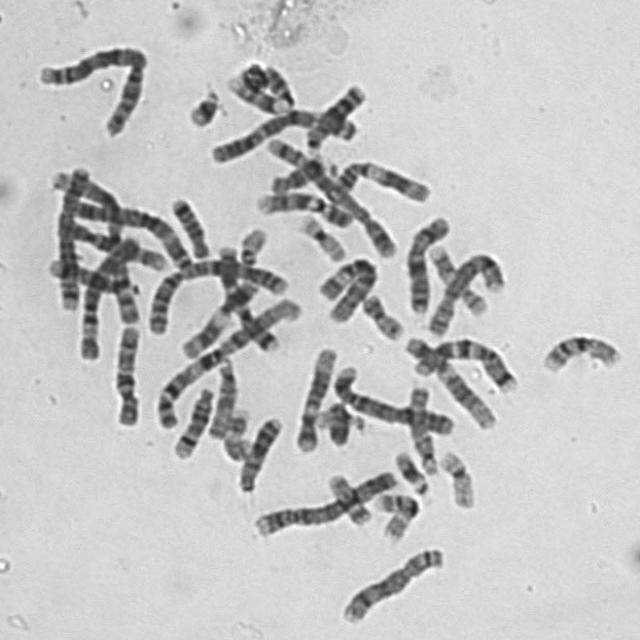A1: (148, 288, 308, 432), (42, 156, 143, 328)
A2: (139, 252, 295, 339), (30, 35, 152, 139)
A3: (49, 186, 198, 273), (202, 102, 362, 166)
B4: (246, 461, 401, 539), (326, 357, 458, 436)
B5: (258, 129, 401, 261), (46, 158, 93, 313)
C10: (56, 213, 172, 272), (104, 316, 144, 429)
C11: (175, 270, 261, 360), (325, 152, 433, 205)
C12: (398, 328, 499, 432), (287, 339, 340, 454)
C6: (67, 225, 145, 363), (312, 249, 381, 325)
C7: (210, 236, 283, 354), (398, 328, 522, 395)
C8: (333, 539, 448, 626), (420, 251, 509, 338)
C9: (249, 183, 355, 228), (219, 60, 296, 116)
D13: (296, 80, 369, 155), (230, 408, 285, 494)
D14: (44, 257, 142, 302), (166, 377, 217, 461)
D15: (398, 377, 442, 478), (200, 350, 240, 440)
E16: (534, 324, 625, 375), (367, 485, 423, 543)
E17: (421, 237, 491, 319), (215, 401, 253, 463)
E18: (163, 189, 212, 260), (264, 149, 330, 195)
F19: (290, 206, 349, 263), (431, 442, 479, 510)
F20: (320, 466, 374, 527), (354, 286, 406, 342)
G21: (387, 442, 433, 502), (179, 79, 222, 129)
G22: (312, 398, 365, 434), (232, 219, 270, 268)
X: (397, 207, 453, 315)
